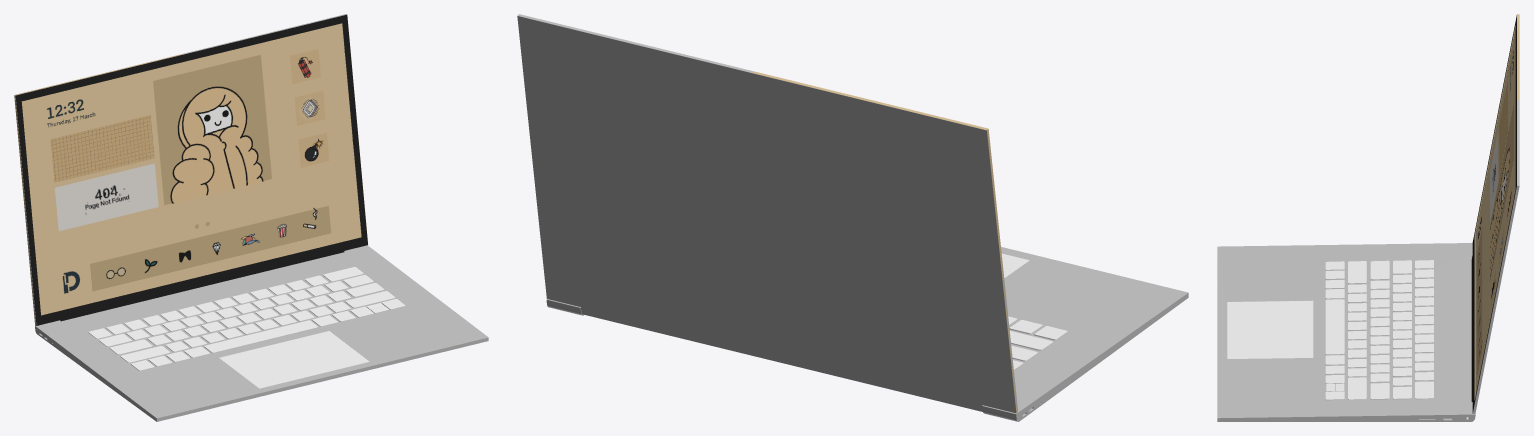
The model's file is laptop.glb.
3 views of the same model, side by side, from view 1: azimuth 30°, elevation 25°; view 2: azimuth 150°, elevation 25°; view 3: azimuth 270°, elevation 25° (orthographic). The views are drawn at different scales.
Visible parts, largest first — view 1: Display, Silver colour Cover, Keyboard; view 2: Display, Silver colour Cover, Keyboard; view 3: Silver colour Cover, Keyboard, Display.
Boxes of the visible parts, left/top/right/bottom form: Display: left=14, top=14, right=368, bottom=325; Silver colour Cover: left=35, top=245, right=488, bottom=421; Keyboard: left=88, top=267, right=405, bottom=370; Display: left=517, top=14, right=1017, bottom=413; Silver colour Cover: left=546, top=247, right=1188, bottom=421; Keyboard: left=1008, top=316, right=1067, bottom=370; Silver colour Cover: left=1217, top=243, right=1475, bottom=421; Keyboard: left=1325, top=260, right=1433, bottom=400; Display: left=1471, top=14, right=1519, bottom=413.
Bounding box in the file's own units: 0.38 × 0.2452 × 0.2828.
Materials: 5 (1 with a texture image).
